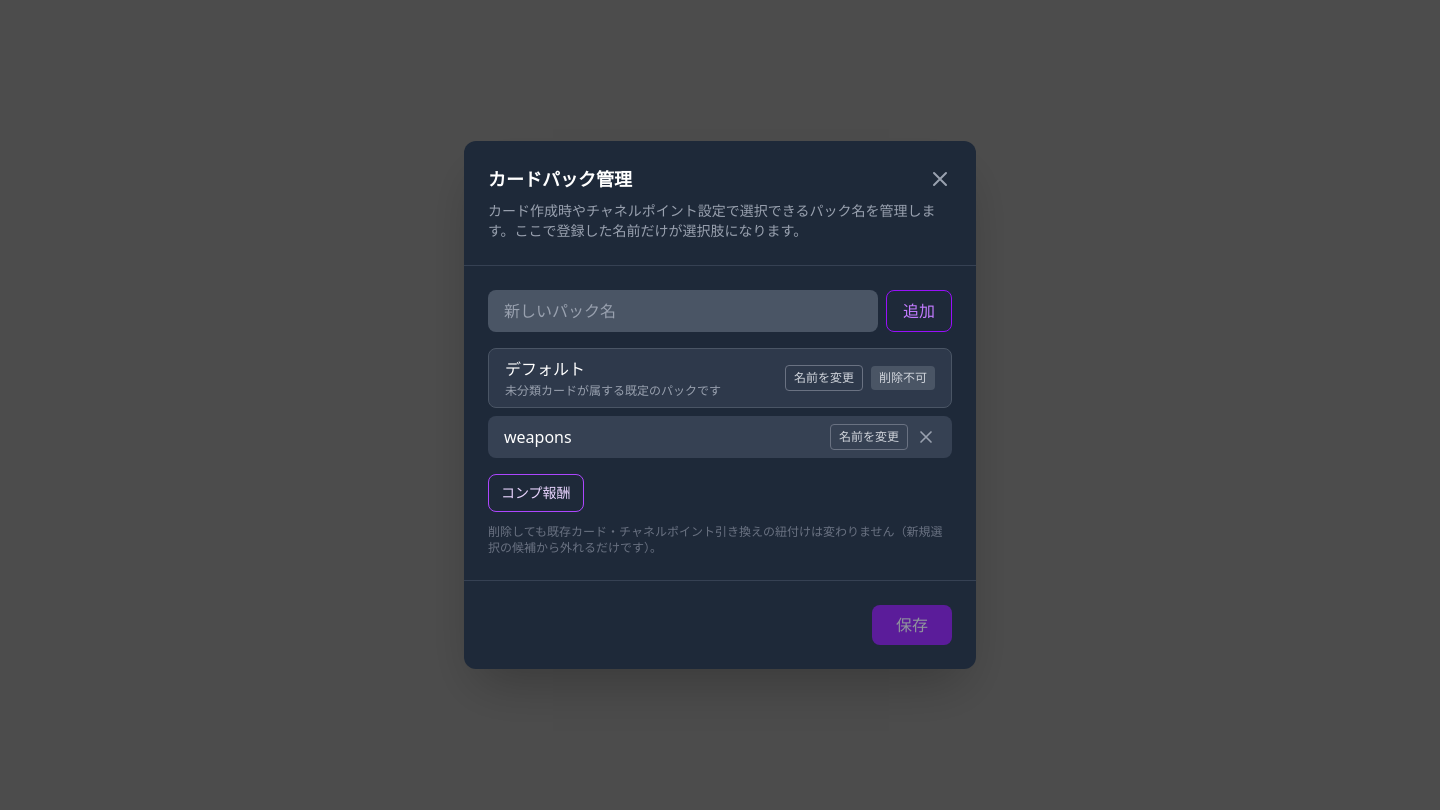
Test case: CardPackModal › does NOT close and shows a deploy-window notice when the write itself was skipped
Type "armor" into the field with placeholder "新しいパック名" at (683, 311), box [488,290,878,332]
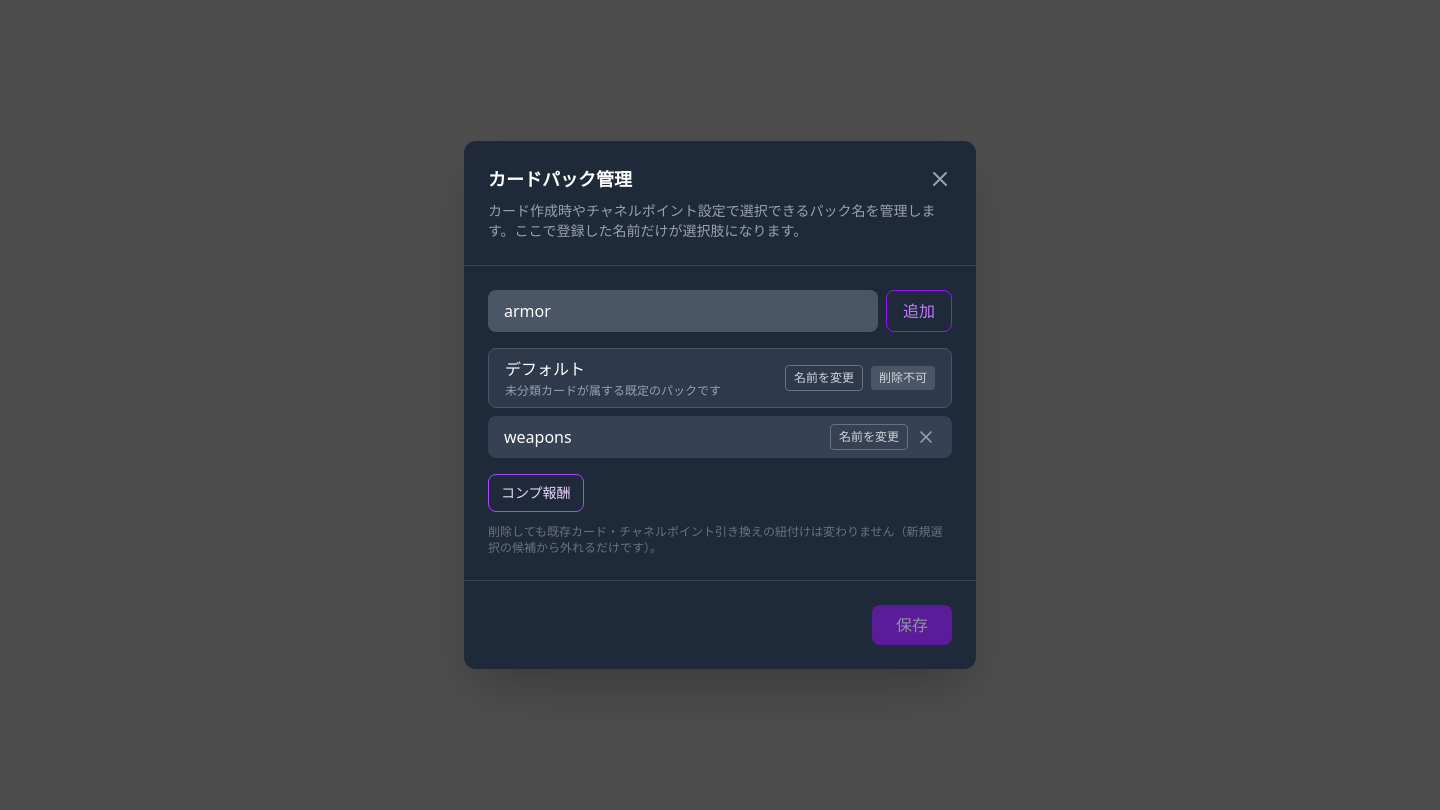
Click the button "追加" at (919, 311), box [886,290,952,332]
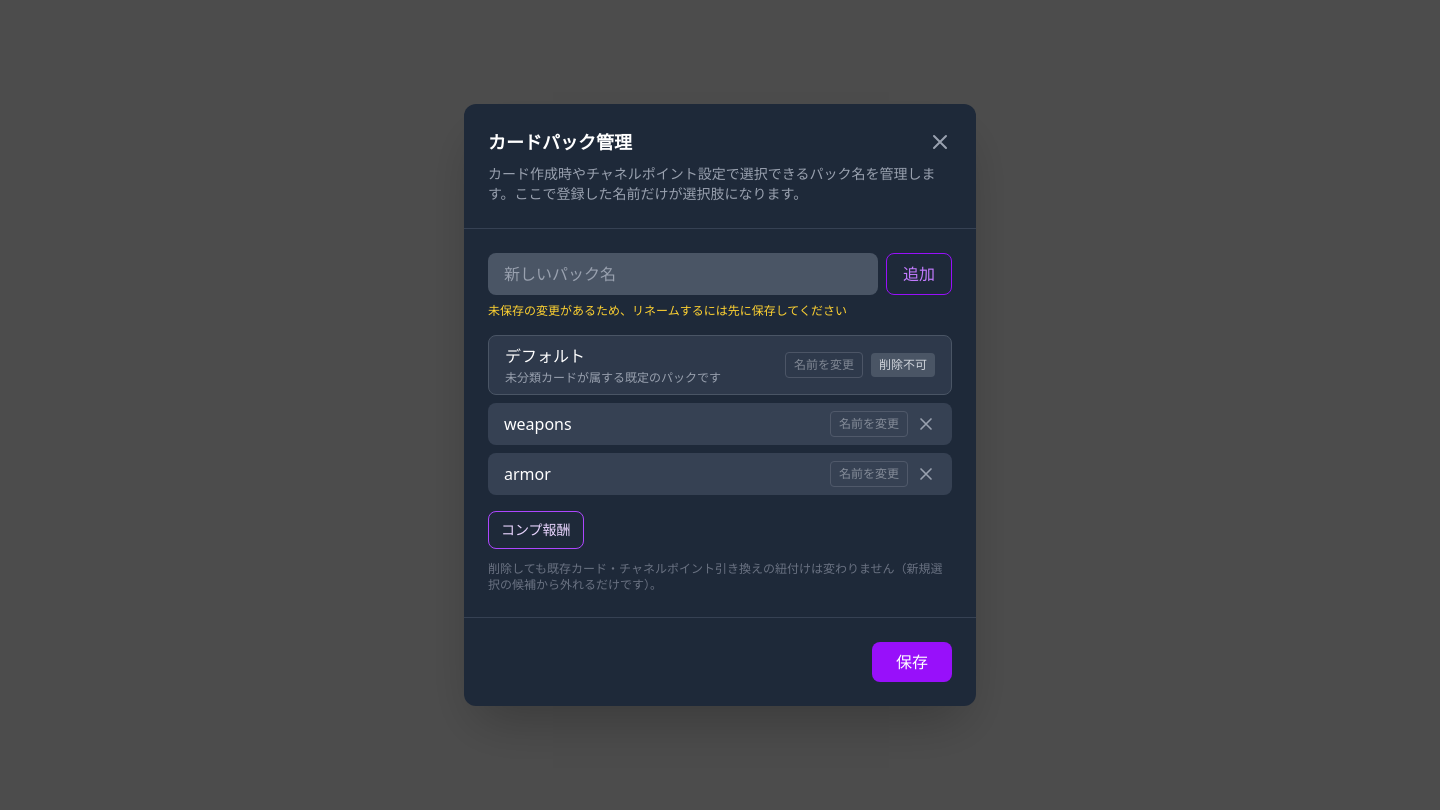
Click the button "保存" at (912, 662), box [872,642,952,682]
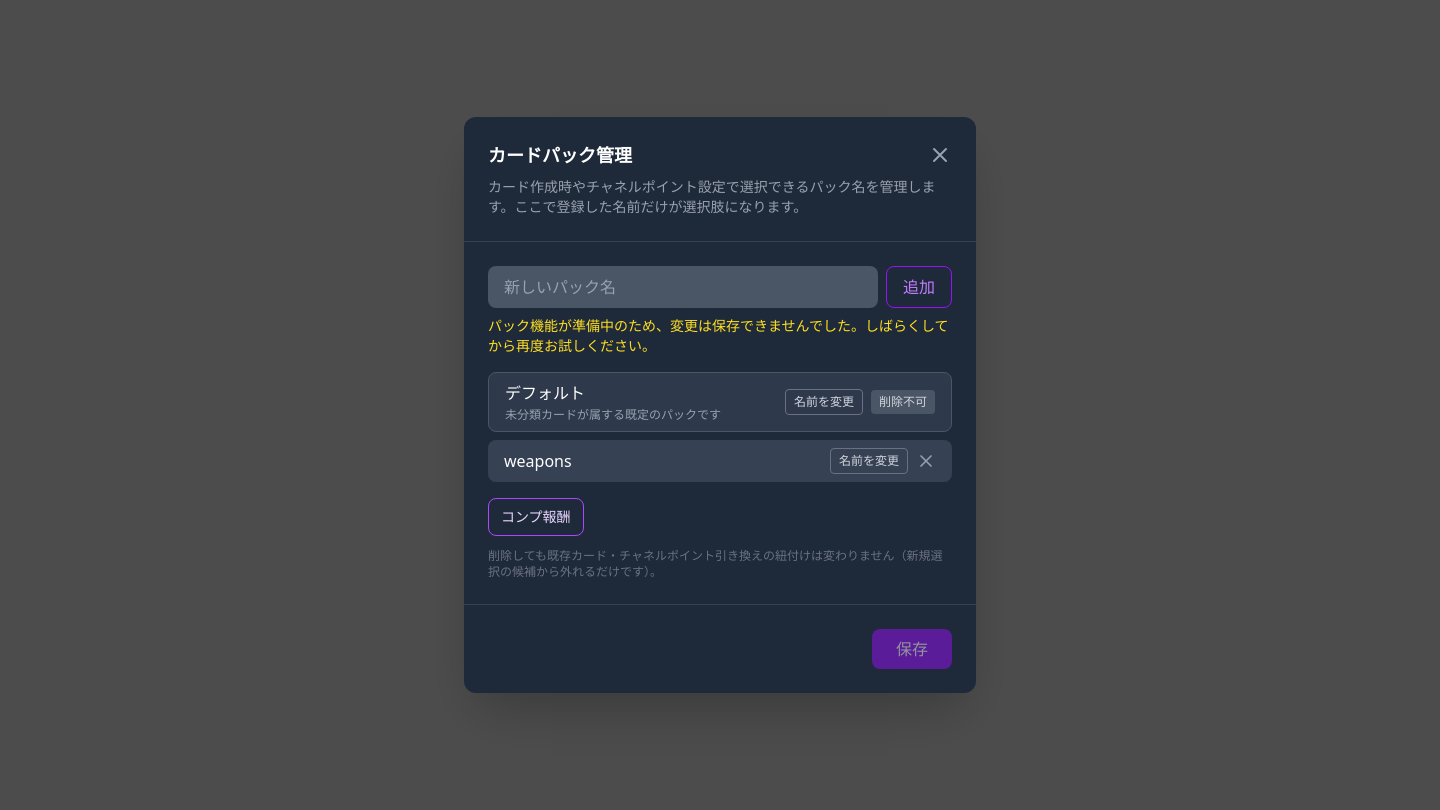
Now the text "パック機能が準備中のため、変更は保存できませんでした。しばらくしてから再度お試しください。" is shown, box [488,316,952,356]
